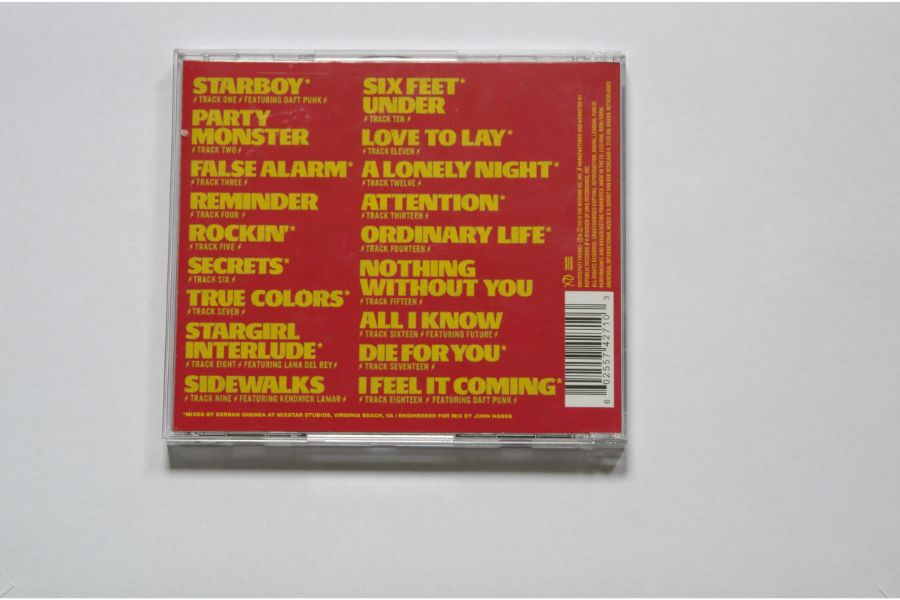album: (159, 42, 633, 457)
